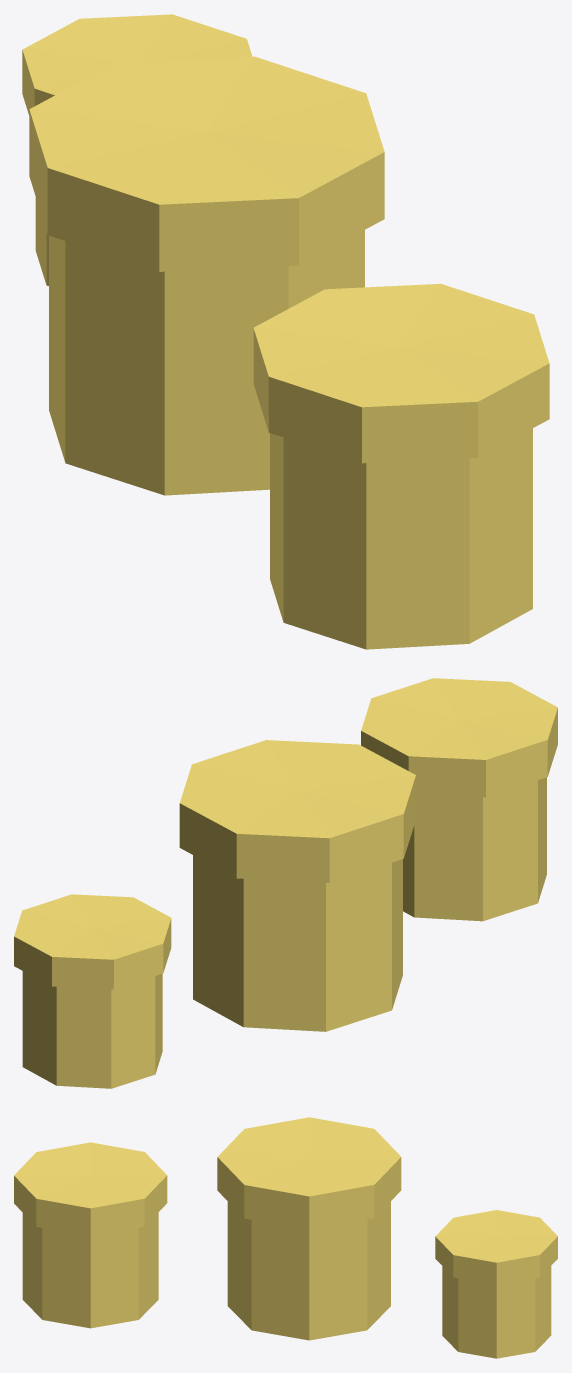
File: Bedroom3_boxes.fbx
The picture shows the model from 3 angles, top to bottom: view 1: azimuth 30°, elevation 25°; view 2: azimuth 150°, elevation 25°; view 3: azimuth 270°, elevation 25°; orthographic projection. The views are drawn at different scales.
Parts seen in each view (by area): view 1: Bedroom3_boxes; view 2: Bedroom3_boxes; view 3: Bedroom3_boxes.
Part boxes in pixels (left/top/right/bottom): Bedroom3_boxes: left=22, top=14, right=549, bottom=649; Bedroom3_boxes: left=14, top=678, right=557, bottom=1088; Bedroom3_boxes: left=14, top=1117, right=557, bottom=1358.
Bounding box in the file's own units: 28.19 × 20.91 × 68.71.
